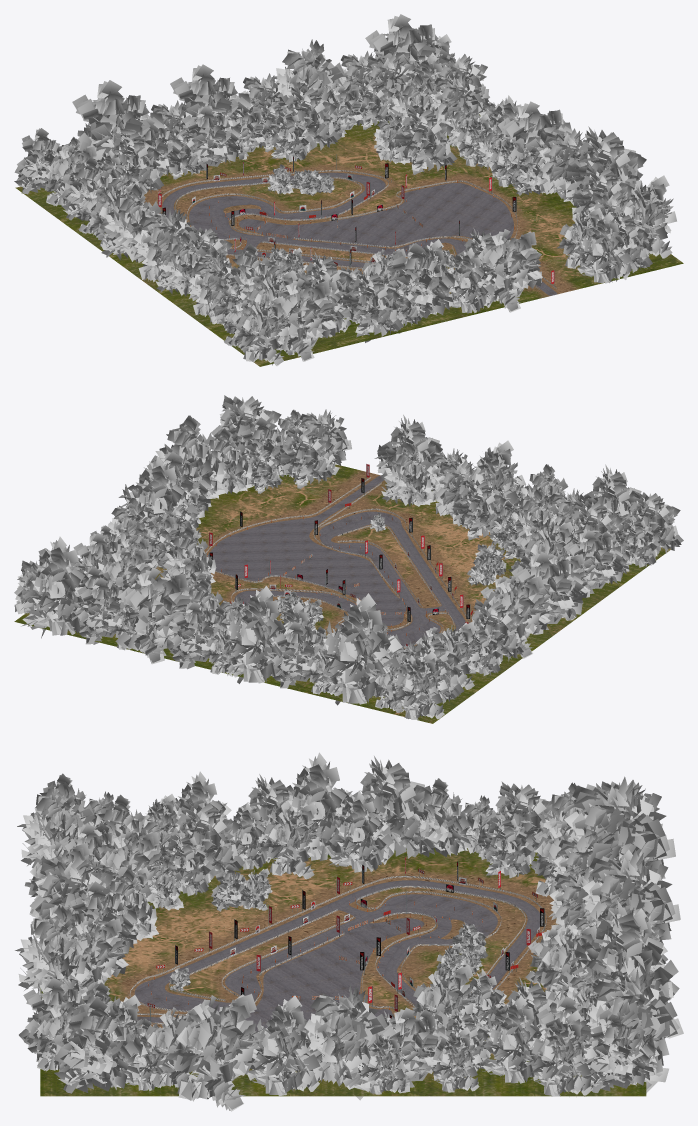
Rendered from DriftTrack3.fbx.
3 views of the same model, one above another, from view 1: azimuth 30°, elevation 25°; view 2: azimuth 150°, elevation 25°; view 3: azimuth 270°, elevation 25° (orthographic). The views are drawn at different scales.
Parts seen in each view (by area): view 1: Terrain, Road, Bush.024, Bush.086, Bush.006, Bush.076, Bush.089, Bush.059, Bush.001, Bush.028, Bush.034, Bush.070 (+57 smaller); view 2: Terrain, Road, Bush.024, Bush.034, Bush.042, Bush.028, Bush.079, Bush.055, Bush.044, Bush.080, Bush.076, Bush.030 (+48 smaller); view 3: Terrain, Road, Bush.076, Bush.024, Bush.055, Bush.070, Bush.042, Bush.028, Bush.034, Bush.078, Bush.080, Bush.086 (+53 smaller).
Part boxes in pixels (x1=…): Terrain: x1=15, y1=114, x2=683, y2=366; Road: x1=162, y1=172, x2=557, y2=295; Bush.024: x1=72, y1=80, x2=166, y2=164; Bush.086: x1=476, y1=229, x2=542, y2=312; Bush.006: x1=272, y1=278, x2=336, y2=361; Bush.076: x1=565, y1=126, x2=646, y2=198; Bush.089: x1=387, y1=243, x2=458, y2=318; Bush.059: x1=393, y1=105, x2=457, y2=174; Bush.001: x1=340, y1=268, x2=403, y2=342; Bush.028: x1=170, y1=64, x2=253, y2=136; Bush.034: x1=271, y1=39, x2=344, y2=107; Bush.070: x1=614, y1=175, x2=676, y2=258; Terrain: x1=14, y1=463, x2=670, y2=723; Road: x1=207, y1=475, x2=465, y2=646; Bush.024: x1=318, y1=593, x2=402, y2=705; Bush.034: x1=115, y1=567, x2=199, y2=664; Bush.042: x1=17, y1=536, x2=88, y2=638; Bush.028: x1=223, y1=585, x2=289, y2=683; Bush.079: x1=511, y1=551, x2=584, y2=634; Bush.055: x1=118, y1=455, x2=198, y2=535; Bush.044: x1=395, y1=651, x2=447, y2=719; Bush.080: x1=487, y1=575, x2=550, y2=658; Bush.076: x1=149, y1=415, x2=225, y2=498; Bush.030: x1=166, y1=601, x2=227, y2=669; Terrain: x1=40, y1=848, x2=646, y2=1096; Road: x1=134, y1=880, x2=539, y2=1031; Bush.076: x1=166, y1=993, x2=262, y2=1111; Bush.024: x1=564, y1=776, x2=675, y2=880; Bush.055: x1=304, y1=984, x2=387, y2=1100; Bush.070: x1=54, y1=997, x2=147, y2=1093; Bush.042: x1=586, y1=968, x2=683, y2=1093; Bush.028: x1=582, y1=850, x2=680, y2=943; Bush.034: x1=569, y1=900, x2=679, y2=1004; Bush.078: x1=246, y1=995, x2=320, y2=1095; Bush.080: x1=345, y1=756, x2=440, y2=858; Bush.086: x1=15, y1=905, x2=91, y2=999.
Bounding box in the file's own units: 50779 × 10992 × 50873.
